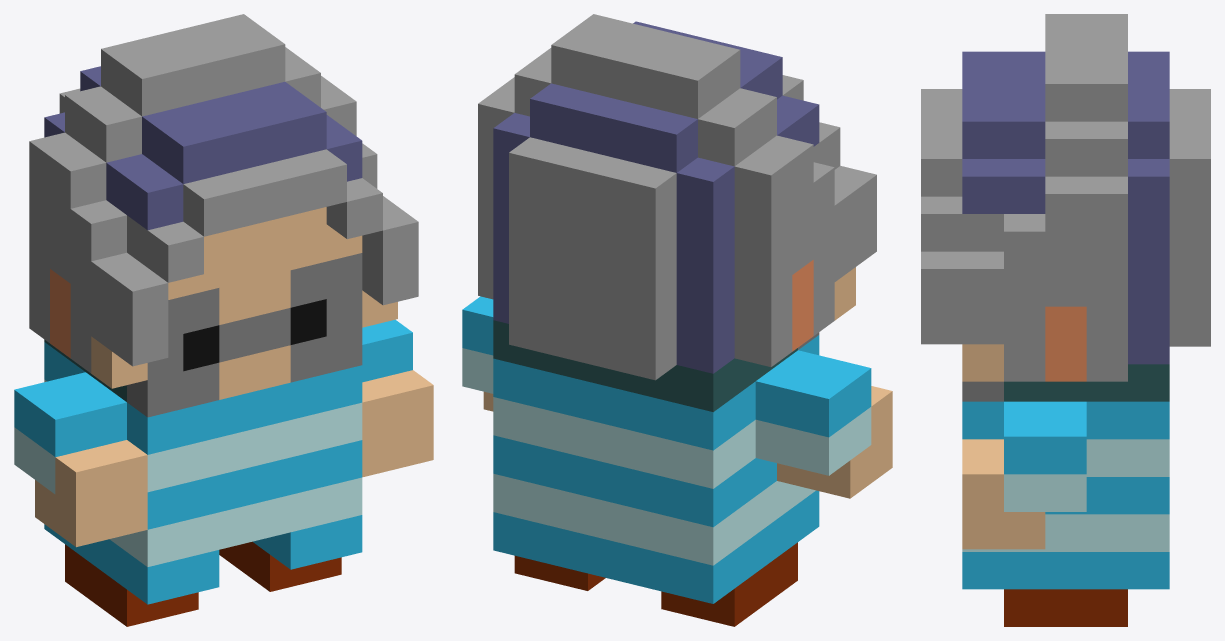
Rendered from prisoner.fbx.
3 renders of one model, left to right at view 1: azimuth 30°, elevation 25°; view 2: azimuth 150°, elevation 25°; view 3: azimuth 270°, elevation 25°, orthographic. The views are drawn at different scales.
Parts seen in each view (by area): view 1: 对象; view 2: 对象; view 3: 对象.
Part boxes in pixels (left/top/right/bottom): 对象: left=14, top=14, right=433, bottom=626; 对象: left=462, top=14, right=892, bottom=626; 对象: left=921, top=14, right=1210, bottom=626.
Size of the model in its own units: 10 by 14 by 7.
Materials: 1 (1 with a texture image).
